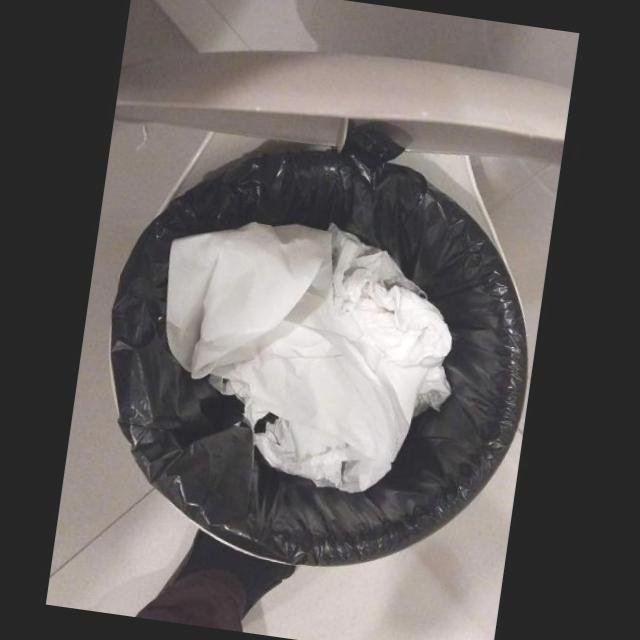giay: (165, 223, 452, 495)
